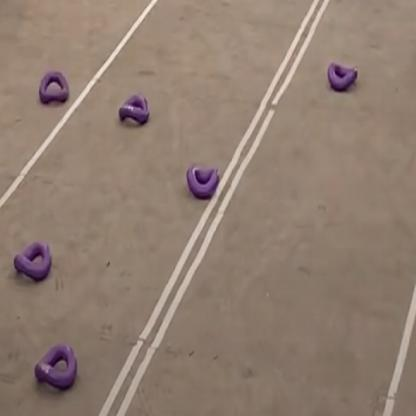ring: (34, 344, 77, 387), (12, 240, 50, 281), (186, 162, 219, 197), (116, 92, 149, 124), (37, 69, 68, 102), (326, 61, 358, 92)
